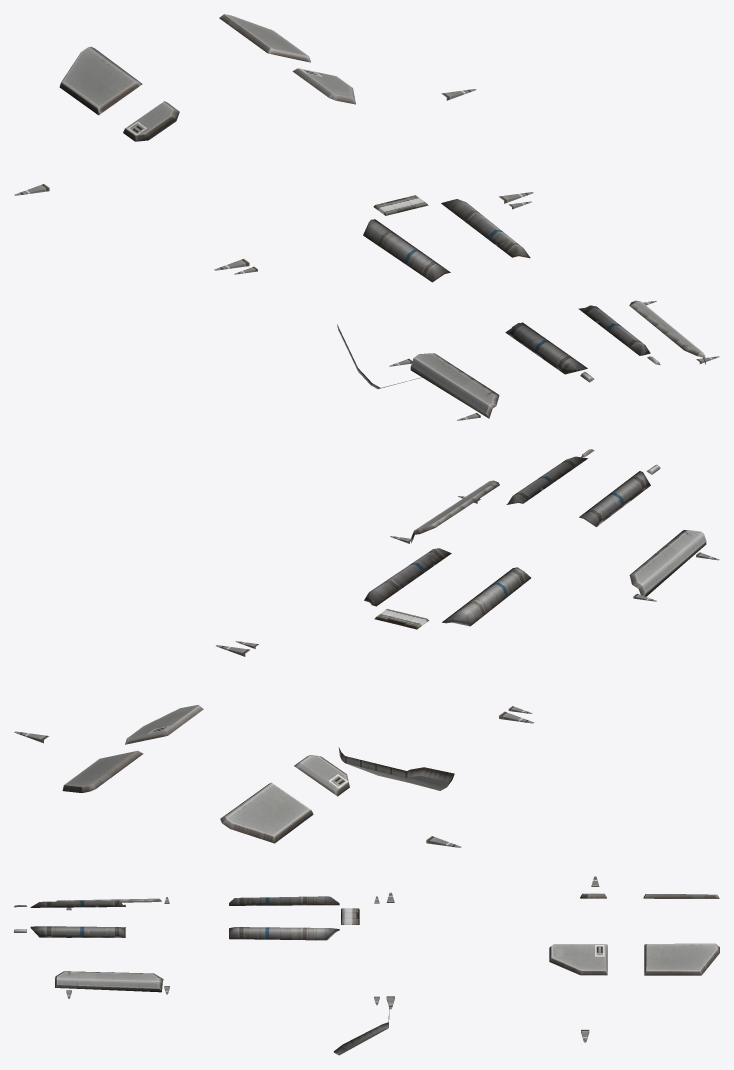
Rendered from hgn_cf_ionc_01_t2.glb.
3 renders of one model, top to bottom at view 1: azimuth 30°, elevation 25°; view 2: azimuth 150°, elevation 25°; view 3: azimuth 270°, elevation 25°, orthographic. The views are drawn at different scales.
Visible parts, largest first — view 1: hgn_ion_cannon_frigate_01_t2_LOD0; view 2: hgn_ion_cannon_frigate_01_t2_LOD0; view 3: hgn_ion_cannon_frigate_01_t2_LOD0.
Boxes of the visible parts, box(x1,y1,x2,y2) form: hgn_ion_cannon_frigate_01_t2_LOD0: box(14, 14, 719, 420); hgn_ion_cannon_frigate_01_t2_LOD0: box(14, 449, 719, 847); hgn_ion_cannon_frigate_01_t2_LOD0: box(14, 876, 719, 1055).
Size of what is drawn, in the model's own units: 1.66 by 0.6143 by 2.97.
Materials: 1 (1 with a texture image).
